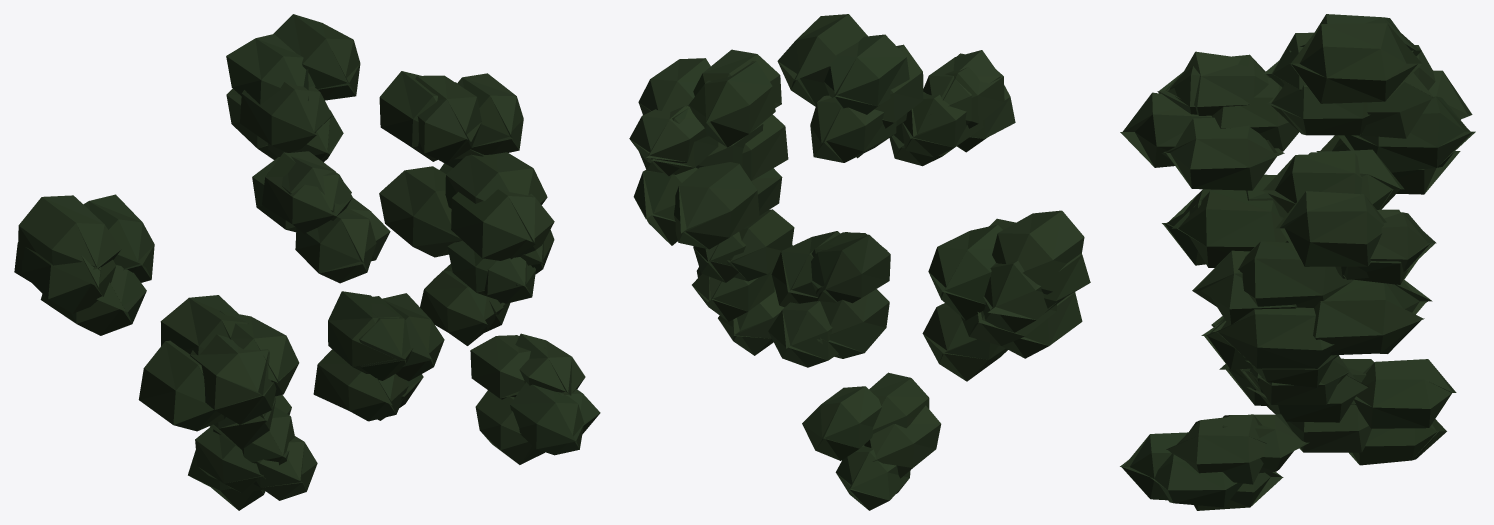
The model's file is tree_m19_far.obj.
3 views of the same model, side by side, from view 1: azimuth 30°, elevation 25°; view 2: azimuth 150°, elevation 25°; view 3: azimuth 270°, elevation 25° (orthographic). The views are drawn at different scales.
Bounding box in the file's own units: 1.69 × 1.62 × 1.12.
1 material, 1 textured.
